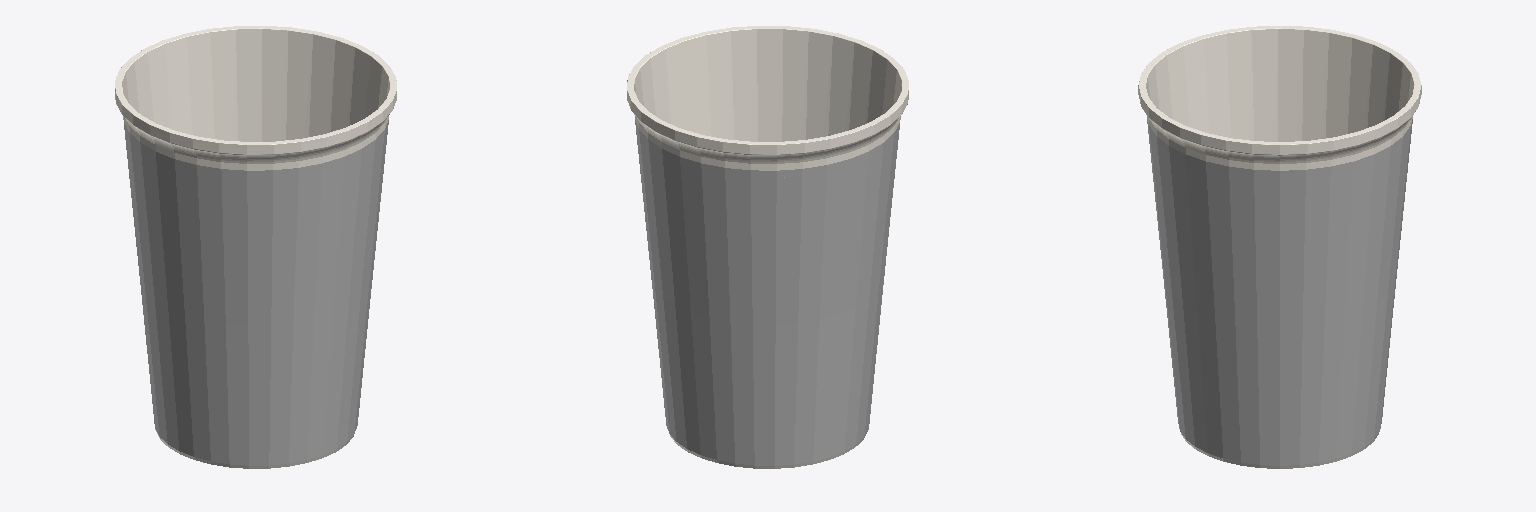
The model's file is peper.obj.
3 renders of one model, left to right at view 1: azimuth 30°, elevation 25°; view 2: azimuth 150°, elevation 25°; view 3: azimuth 270°, elevation 25°, orthographic.
Parts seen in each view (by area): view 1: Lathe; view 2: Lathe; view 3: Lathe.
Part boxes in pixels (bbox=[...]): Lathe: bbox=[115, 26, 396, 468]; Lathe: bbox=[627, 26, 908, 468]; Lathe: bbox=[1138, 26, 1421, 468].
Size of the model in its own units: 600 by 799 by 600.